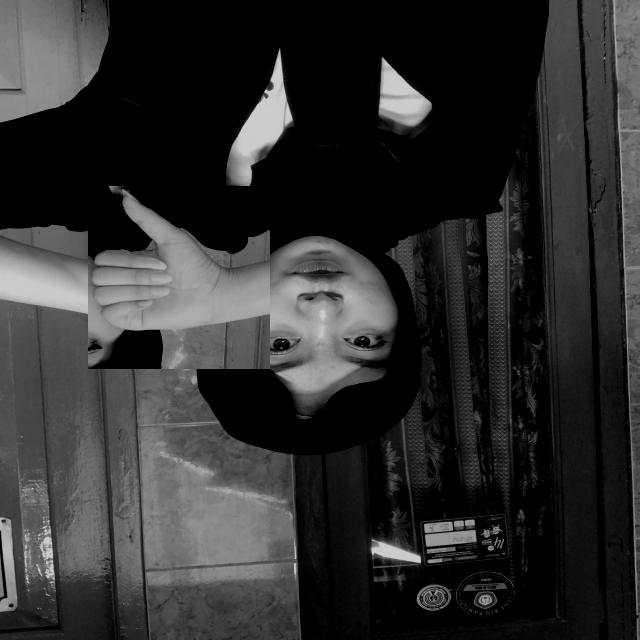sedih: (88, 186, 270, 369)
